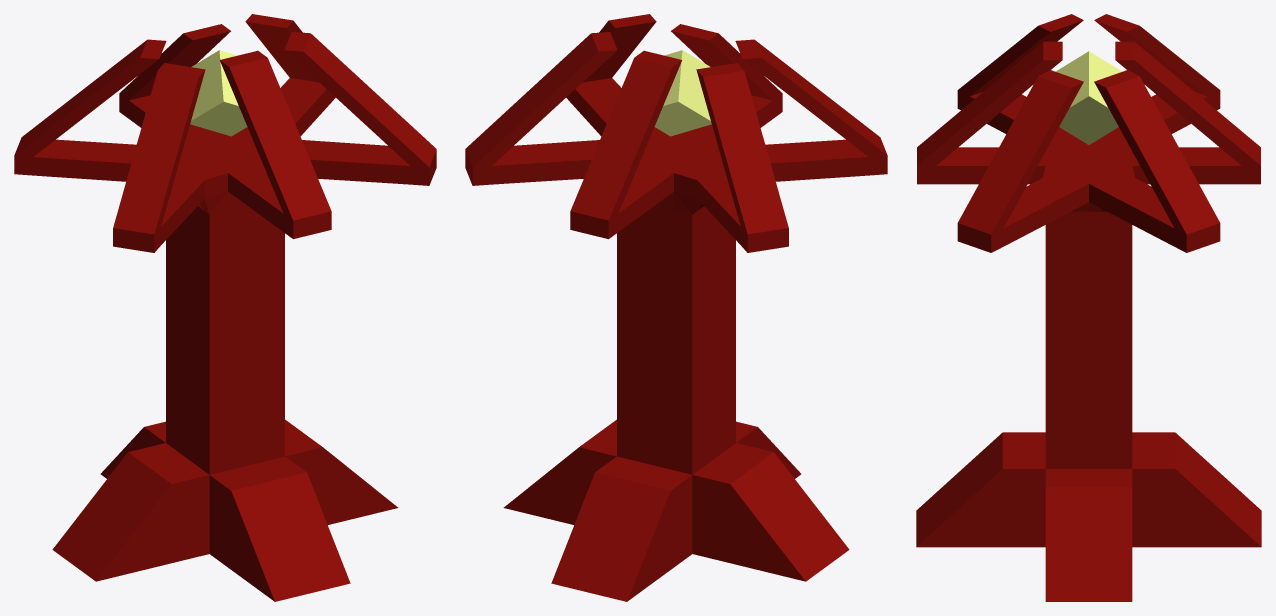
File: Torre de fogo com cor.fbx
The picture shows the model from 3 angles, left to right: view 1: azimuth 30°, elevation 25°; view 2: azimuth 150°, elevation 25°; view 3: azimuth 270°, elevation 25°; orthographic projection.
Visible parts, largest first — view 1: Torre, Cubo; view 2: Torre, Cubo; view 3: Torre, Cubo.
Boxes of the visible parts, x1=… form: Torre: x1=14, y1=14, x2=436, y2=601; Cubo: x1=190, y1=50, x2=247, y2=136; Torre: x1=465, y1=14, x2=887, y2=601; Cubo: x1=654, y1=50, x2=711, y2=136; Torre: x1=916, y1=14, x2=1261, y2=601; Cubo: x1=1055, y1=51, x2=1122, y2=144.
Bounding box in the file's own units: 856 × 1221 × 800.
2 materials, 2 textured.
